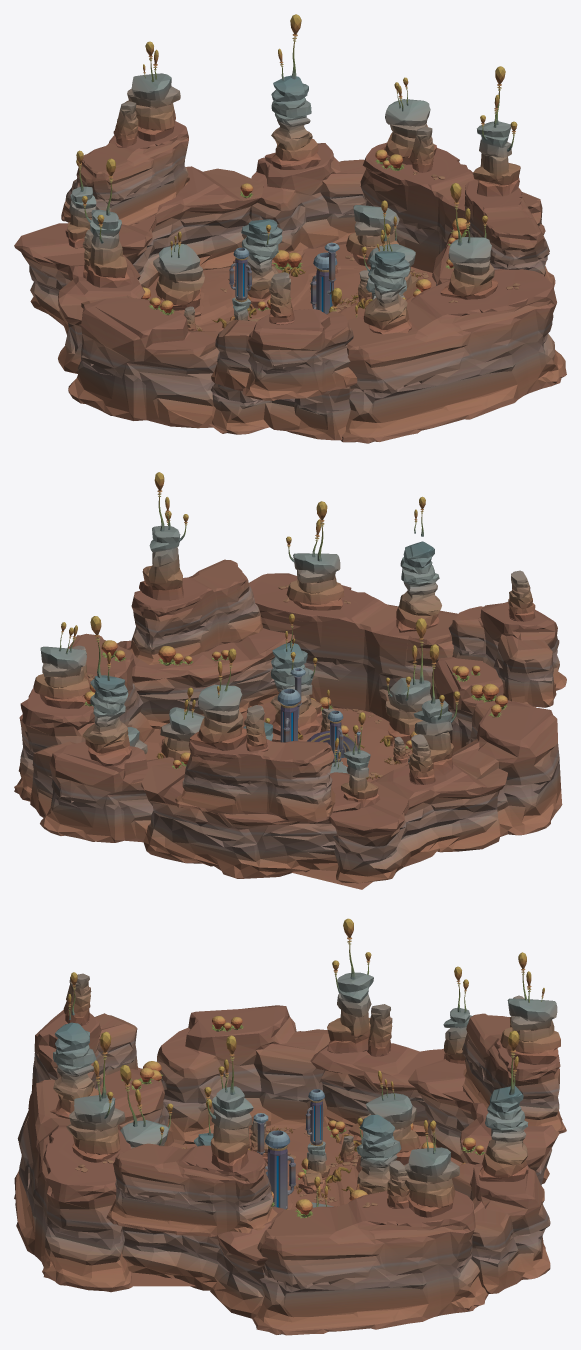
File: monument.glb
3 renders of one model, top to bottom at view 1: azimuth 30°, elevation 25°; view 2: azimuth 150°, elevation 25°; view 3: azimuth 270°, elevation 25°, orthographic. The views are drawn at different scales.
Parts seen in each view (by area): view 1: Monument_planet_Colors_0, Monument_planet_Colors_0.005, Monument_planet_Colors_0.004, Monument_planet_Colors_0.003, Monument_planet_Colors_0.001, Monument_planet_Colors_0.002; view 2: Monument_planet_Colors_0, Monument_planet_Colors_0.005, Monument_planet_Colors_0.003, Monument_planet_Colors_0.004, Monument_planet_Colors_0.001, Monument_planet_Colors_0.002; view 3: Monument_planet_Colors_0, Monument_planet_Colors_0.005, Monument_planet_Colors_0.003, Monument_planet_Colors_0.001, Monument_planet_Colors_0.004, Monument_planet_Colors_0.002.
Part boxes in pixels (bbox=[...]): Monument_planet_Colors_0: bbox=[61, 73, 566, 443]; Monument_planet_Colors_0.005: bbox=[14, 41, 555, 373]; Monument_planet_Colors_0.004: bbox=[76, 14, 499, 400]; Monument_planet_Colors_0.003: bbox=[97, 49, 553, 330]; Monument_planet_Colors_0.001: bbox=[76, 77, 517, 328]; Monument_planet_Colors_0.002: bbox=[82, 48, 520, 331]; Monument_planet_Colors_0: bbox=[30, 525, 562, 889]; Monument_planet_Colors_0.005: bbox=[14, 501, 507, 883]; Monument_planet_Colors_0.003: bbox=[129, 472, 535, 778]; Monument_planet_Colors_0.004: bbox=[69, 496, 566, 779]; Monument_planet_Colors_0.001: bbox=[59, 511, 483, 778]; Monument_planet_Colors_0.002: bbox=[65, 514, 500, 784]; Monument_planet_Colors_0: bbox=[14, 972, 566, 1318]; Monument_planet_Colors_0.005: bbox=[100, 952, 559, 1335]; Monument_planet_Colors_0.003: bbox=[63, 918, 531, 1236]; Monument_planet_Colors_0.001: bbox=[120, 952, 485, 1209]; Monument_planet_Colors_0.004: bbox=[31, 972, 524, 1218]; Monument_planet_Colors_0.002: bbox=[75, 1004, 518, 1208].
Size of the model in its own units: 149 by 73.72 by 139.
2 materials, 2 textured.
